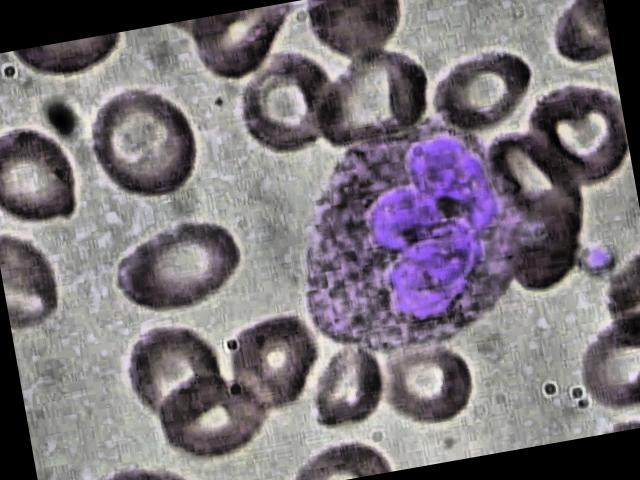Platelets: (574, 238, 627, 282)
RBC: (74, 73, 213, 206), (107, 211, 250, 318), (139, 356, 278, 465), (94, 315, 233, 424), (224, 39, 344, 159), (418, 30, 552, 136), (214, 308, 330, 425), (368, 330, 486, 439), (0, 103, 89, 233), (0, 224, 78, 343), (292, 0, 423, 70), (565, 307, 640, 425), (300, 340, 390, 438)
WBC: (260, 101, 544, 374)
